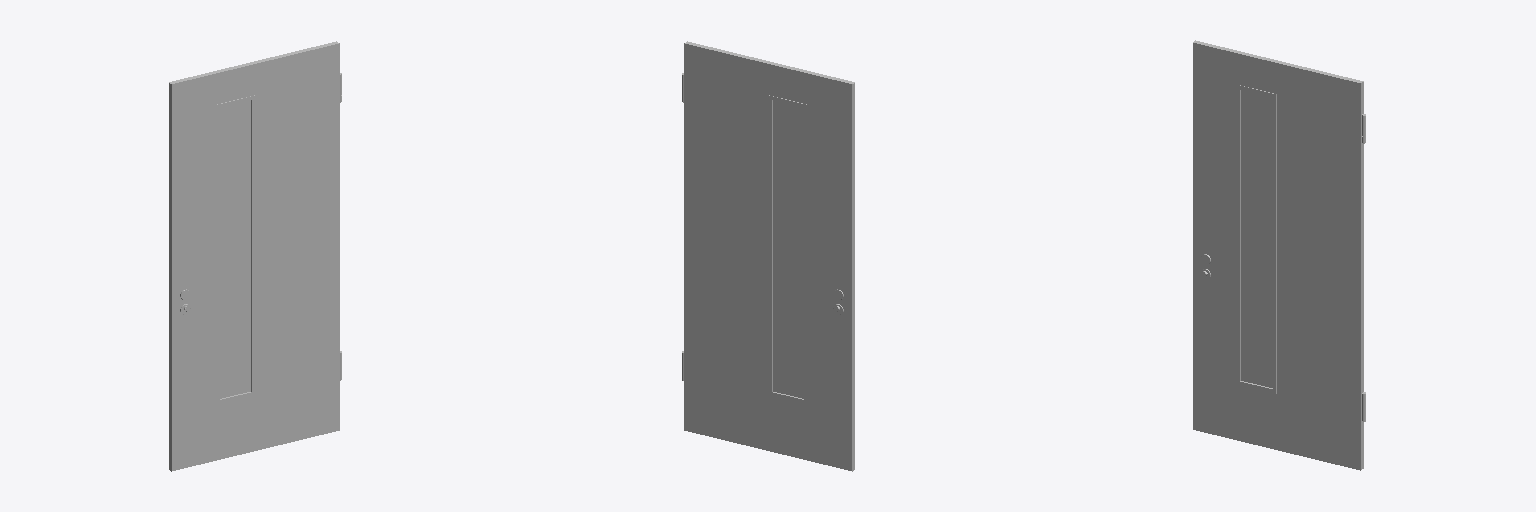
File: RetailDoorPart2.obj
3 renders of one model, left to right at view 1: azimuth 30°, elevation 25°; view 2: azimuth 150°, elevation 25°; view 3: azimuth 330°, elevation 25°, orthographic.
Visible parts, largest first — view 1: SM_Retail_Door_Part4_11; view 2: SM_Retail_Door_Part4_11; view 3: SM_Retail_Door_Part4_11.
Part boxes in pixels (bbox=[...]): SM_Retail_Door_Part4_11: bbox=[169, 41, 341, 471]; SM_Retail_Door_Part4_11: bbox=[682, 41, 854, 471]; SM_Retail_Door_Part4_11: bbox=[1193, 40, 1365, 470].
Size of the model in its own units: 101 by 217 by 7.26.